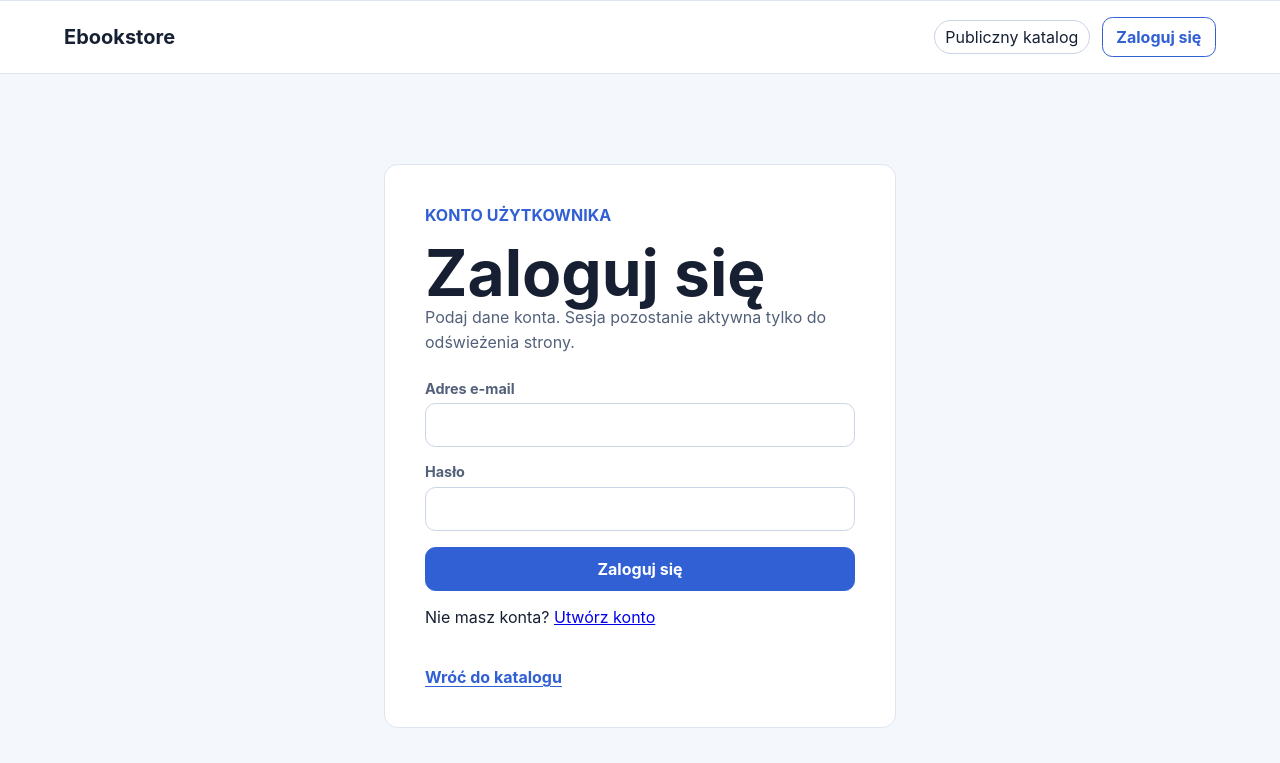
profile flow › clears an expired session after the protected endpoint returns 401
Type "user@example.com" into the field labelled "Adres e-mail".
click(640, 425); type("user@example.com")  # box [425, 403, 855, 447]
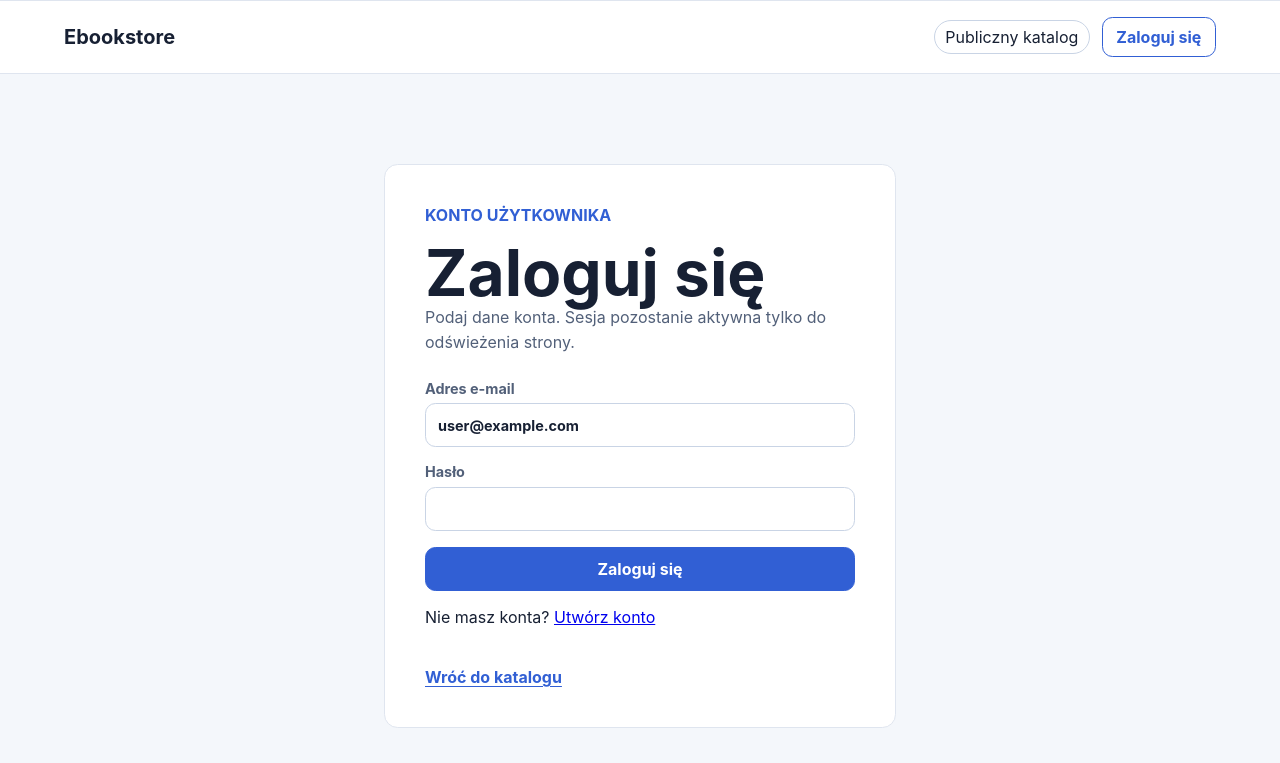
Type "Correct-Horse-42" into the password field labelled "Hasło".
click(640, 509); type("Correct-Horse-42")  # box [425, 487, 855, 531]
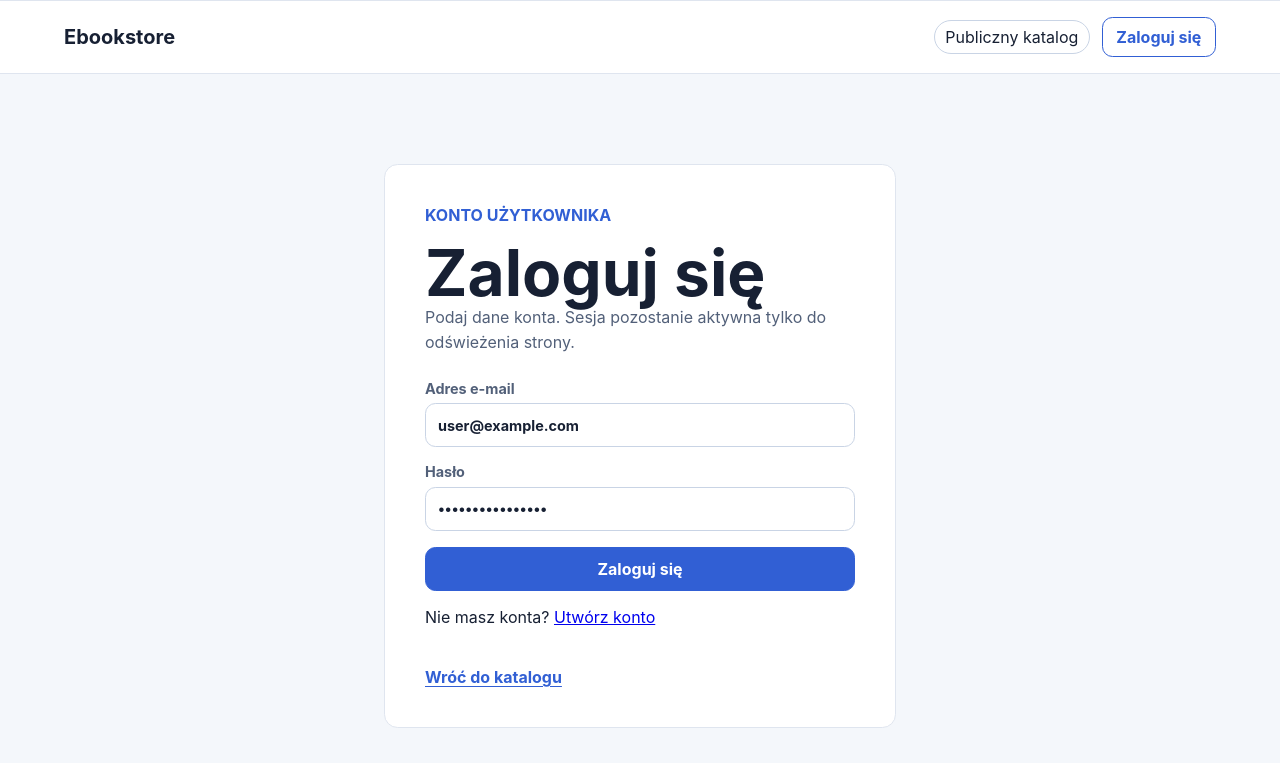
Click the button "Zaloguj się".
click(640, 569)  # box [425, 547, 855, 591]
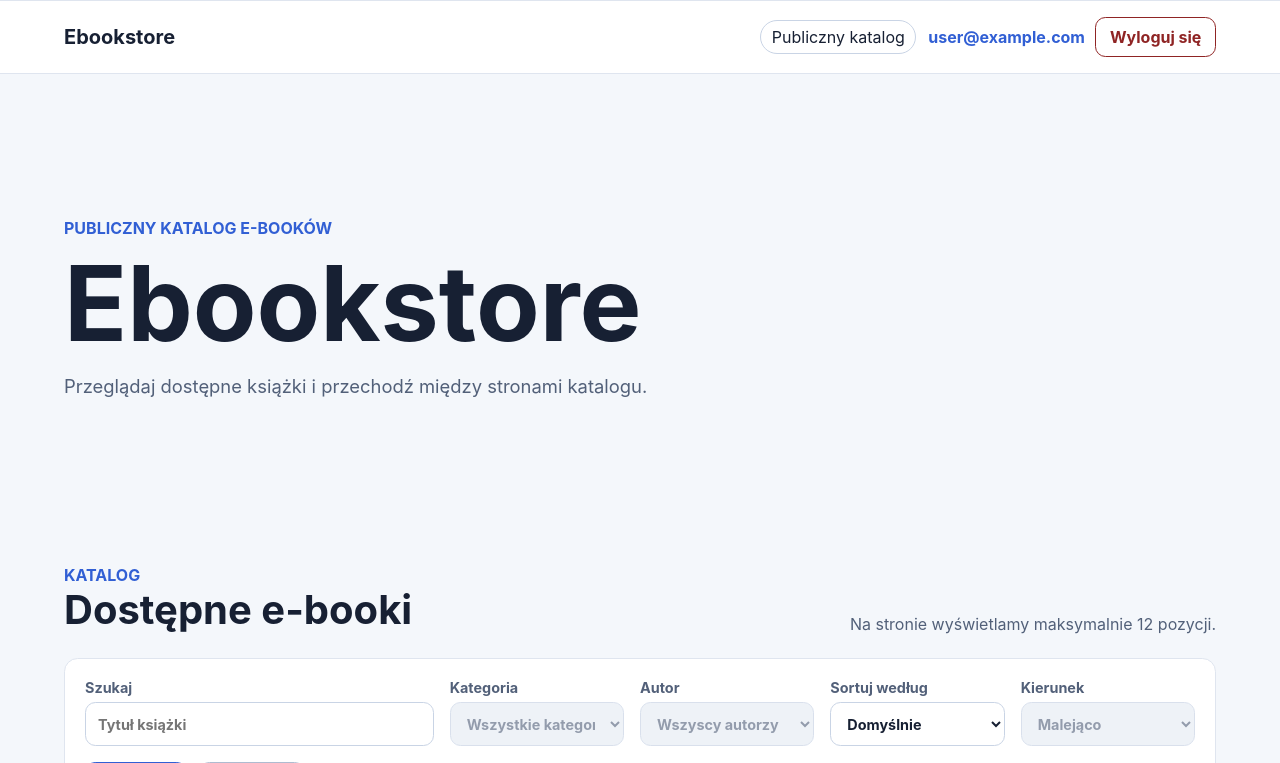
Click the link with aria-label "Zalogowano jako user@example.com".
click(1007, 37)  # box [928, 27, 1085, 47]
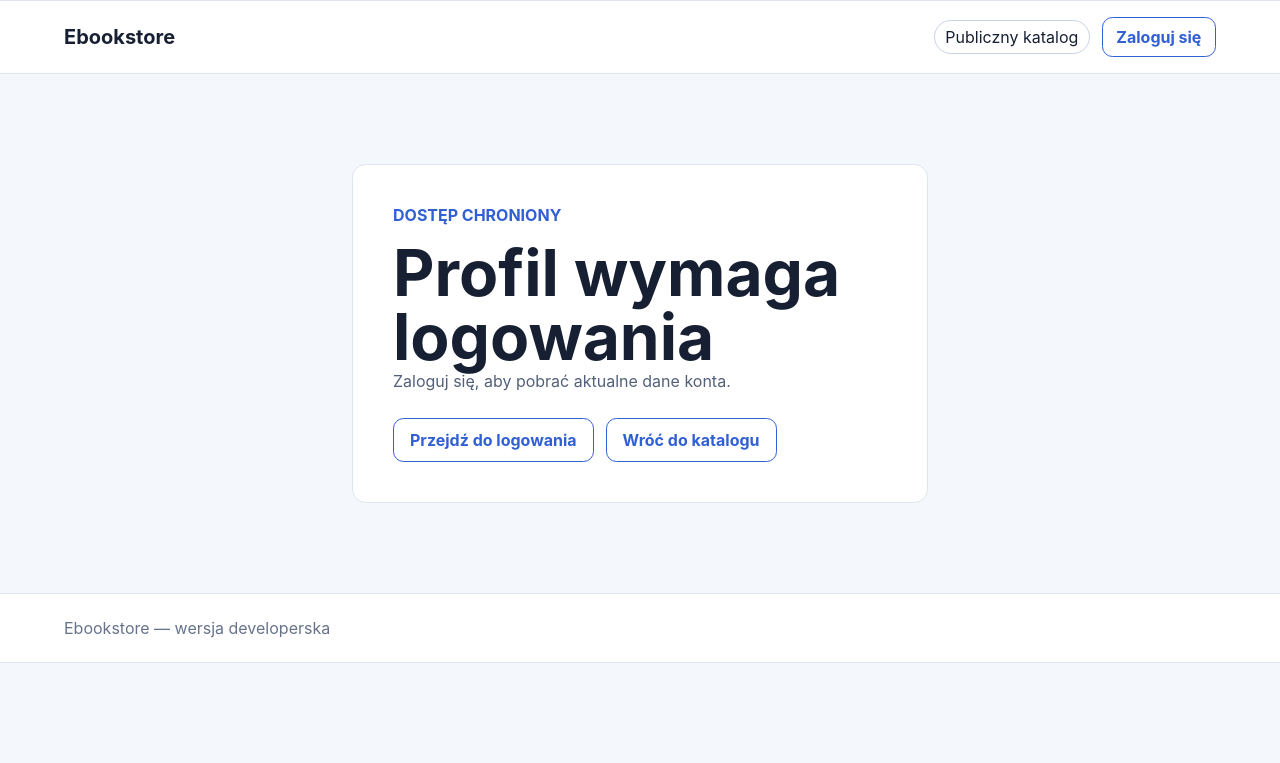
Expected: the heading "Profil wymaga logowania" is shown, [393, 241, 887, 369]
Expected: the link "Zaloguj się" is shown, [1102, 17, 1216, 57]
